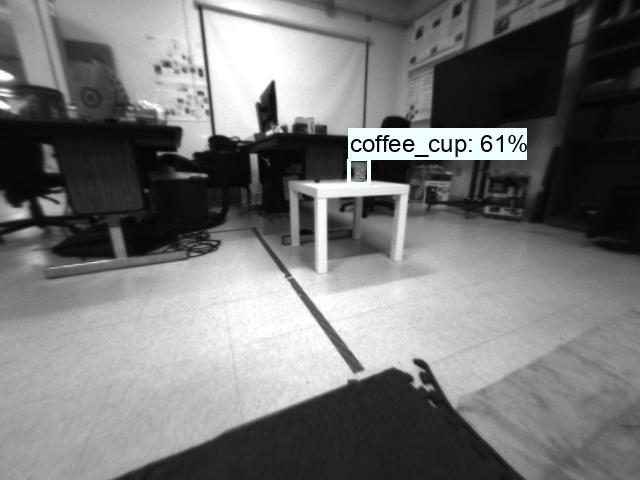coffee_cup: (351, 159, 369, 184)
